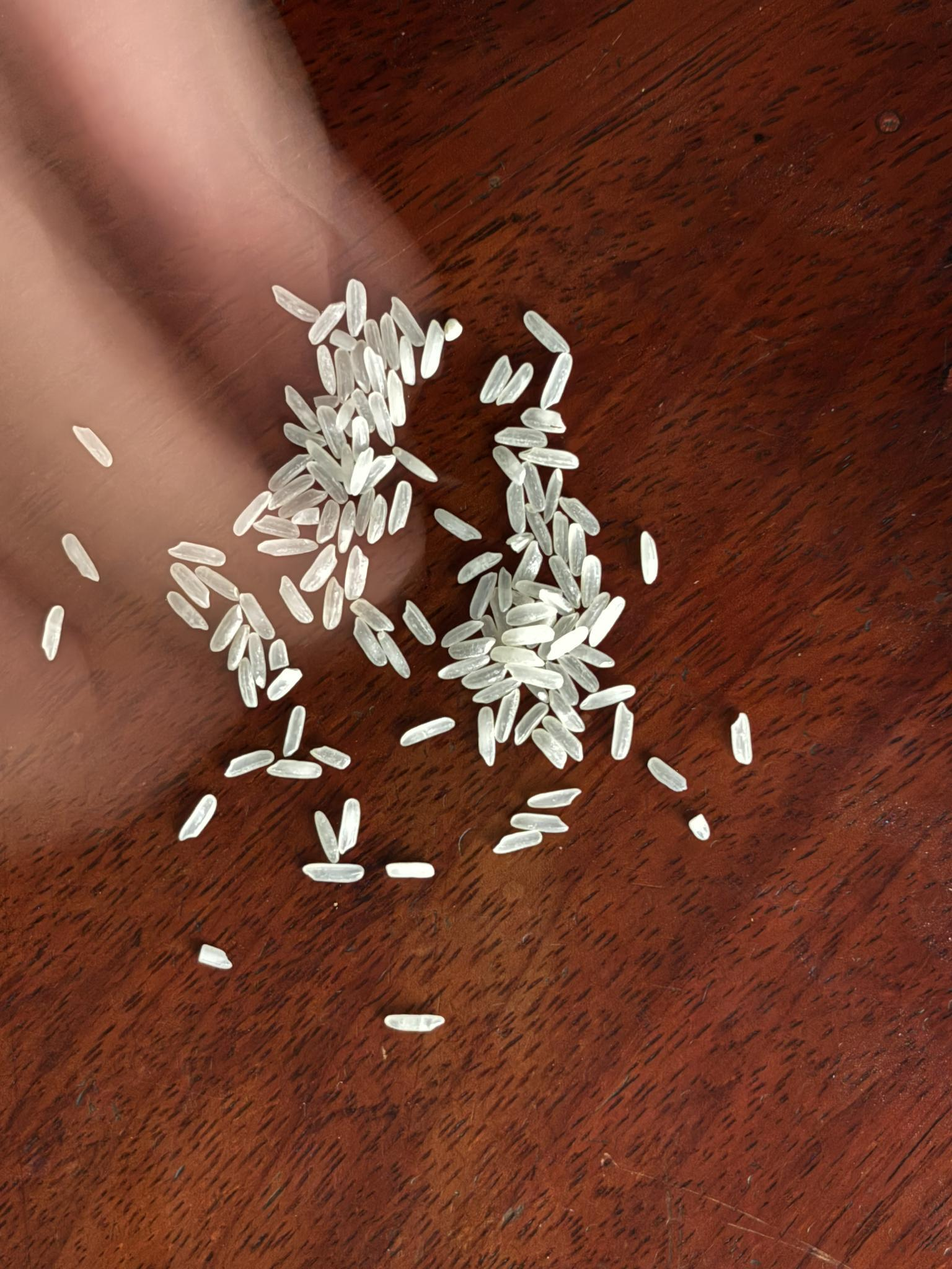Rice-th-y-nh: (522, 310, 571, 355), (169, 562, 212, 609), (588, 596, 626, 647), (539, 353, 574, 408), (271, 285, 320, 324), (231, 491, 272, 537), (543, 716, 584, 762), (61, 533, 99, 582), (389, 297, 426, 347), (72, 425, 115, 468), (307, 461, 349, 505), (277, 575, 314, 624), (300, 544, 337, 592), (239, 592, 275, 641), (194, 565, 240, 603), (283, 384, 319, 432), (559, 496, 602, 536), (548, 555, 581, 607), (496, 362, 535, 406), (177, 795, 216, 839), (316, 404, 347, 459), (267, 453, 310, 492), (306, 440, 344, 484), (352, 618, 386, 667), (433, 508, 482, 542), (209, 604, 243, 653), (391, 447, 437, 483), (166, 592, 208, 631), (479, 355, 513, 403), (308, 302, 346, 344), (557, 655, 599, 693), (512, 702, 548, 746), (399, 718, 455, 746), (419, 320, 446, 378), (522, 444, 580, 471), (580, 683, 635, 711), (562, 524, 591, 577), (457, 551, 503, 584), (531, 728, 568, 769), (168, 541, 226, 567), (549, 690, 584, 733), (271, 474, 315, 508), (367, 392, 395, 445), (379, 633, 411, 679), (511, 541, 543, 587), (351, 598, 394, 632), (343, 546, 370, 600), (493, 689, 521, 741), (402, 601, 435, 645), (312, 500, 344, 545), (491, 444, 526, 485), (508, 663, 561, 690), (547, 627, 589, 660), (245, 633, 270, 688), (360, 455, 397, 492), (648, 757, 687, 792), (468, 572, 497, 619), (439, 654, 491, 680), (388, 481, 414, 533), (225, 750, 275, 777), (503, 622, 554, 648), (385, 370, 409, 425), (550, 660, 579, 705), (314, 812, 340, 862), (276, 489, 328, 514), (348, 447, 375, 495), (521, 463, 548, 511), (41, 605, 65, 659), (576, 592, 610, 630), (611, 704, 634, 759), (520, 406, 566, 433), (637, 531, 660, 585), (345, 280, 367, 336), (506, 601, 555, 626), (266, 667, 302, 701), (338, 799, 361, 852), (541, 470, 564, 523), (321, 577, 344, 630), (333, 348, 356, 401), (257, 536, 315, 557), (472, 678, 517, 705), (526, 512, 554, 555), (509, 813, 568, 833), (441, 620, 483, 648), (348, 343, 372, 392), (476, 707, 496, 765), (303, 863, 364, 882), (550, 512, 571, 567), (226, 625, 251, 671), (283, 706, 306, 756), (363, 319, 388, 365), (730, 714, 753, 764), (571, 643, 615, 669), (495, 426, 547, 448), (379, 313, 400, 367), (366, 494, 389, 543), (580, 555, 602, 606), (462, 663, 505, 689), (283, 422, 326, 448), (354, 487, 377, 535), (362, 347, 386, 393), (315, 345, 337, 395), (505, 482, 526, 533), (449, 637, 495, 660), (493, 832, 543, 853), (397, 336, 418, 386), (269, 759, 321, 779), (237, 659, 258, 708), (255, 515, 299, 538), (528, 789, 580, 808), (495, 568, 517, 612), (384, 1015, 444, 1031), (491, 646, 541, 665), (337, 503, 356, 553), (338, 443, 357, 490), (539, 589, 574, 614), (350, 417, 370, 460), (311, 747, 350, 769), (334, 397, 358, 432), (551, 613, 579, 642), (267, 639, 291, 671), (386, 863, 435, 878), (329, 328, 357, 352), (291, 506, 321, 527), (198, 951, 232, 969), (199, 944, 231, 962), (507, 531, 534, 552), (689, 814, 710, 840), (480, 615, 498, 639), (313, 393, 339, 409)
